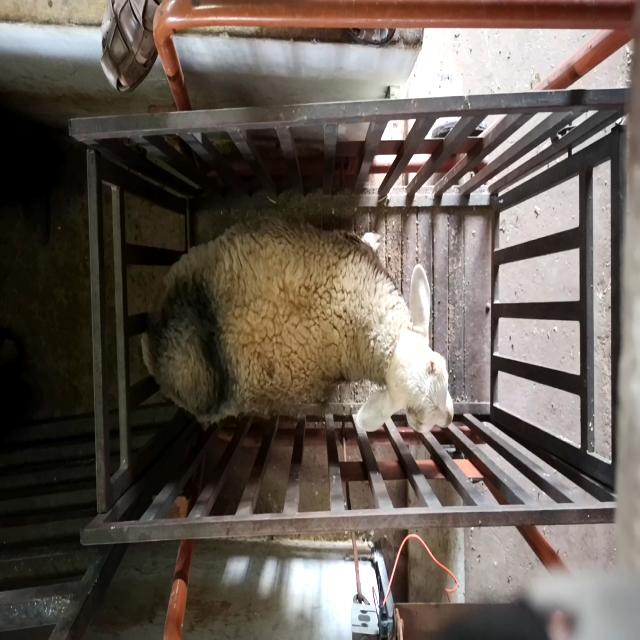sheep: (140, 218, 454, 434)
